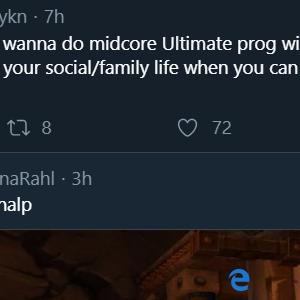edge: (229, 268, 250, 291)
